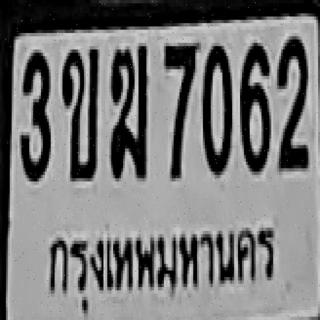A02: (61, 45, 98, 176)
A06: (109, 45, 146, 176)
N00: (201, 43, 230, 172)
N02: (275, 35, 306, 166)
N03: (18, 48, 49, 177)
N06: (239, 38, 268, 170)
N07: (162, 40, 197, 175)
P04: (40, 219, 279, 313)
